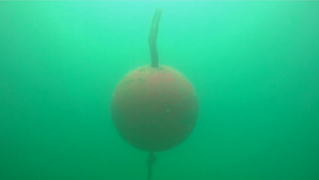bubble: (92, 153, 97, 158), (226, 135, 231, 140)
buoy: (109, 65, 199, 152)
